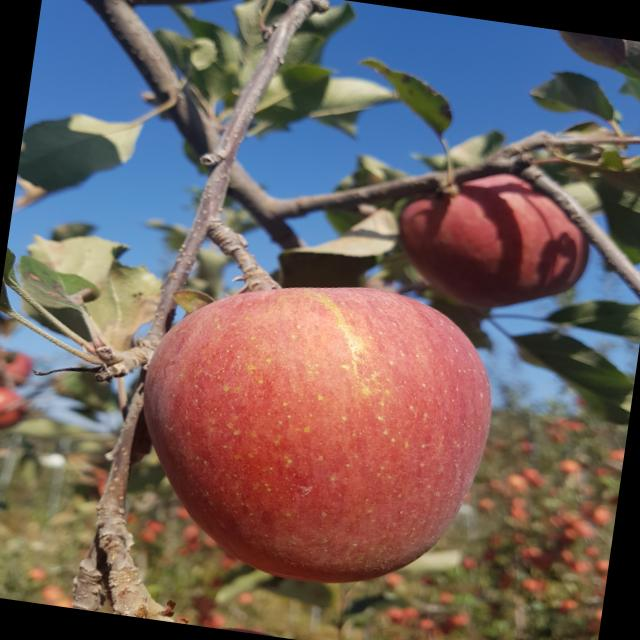fresh: (112, 246, 527, 610)
